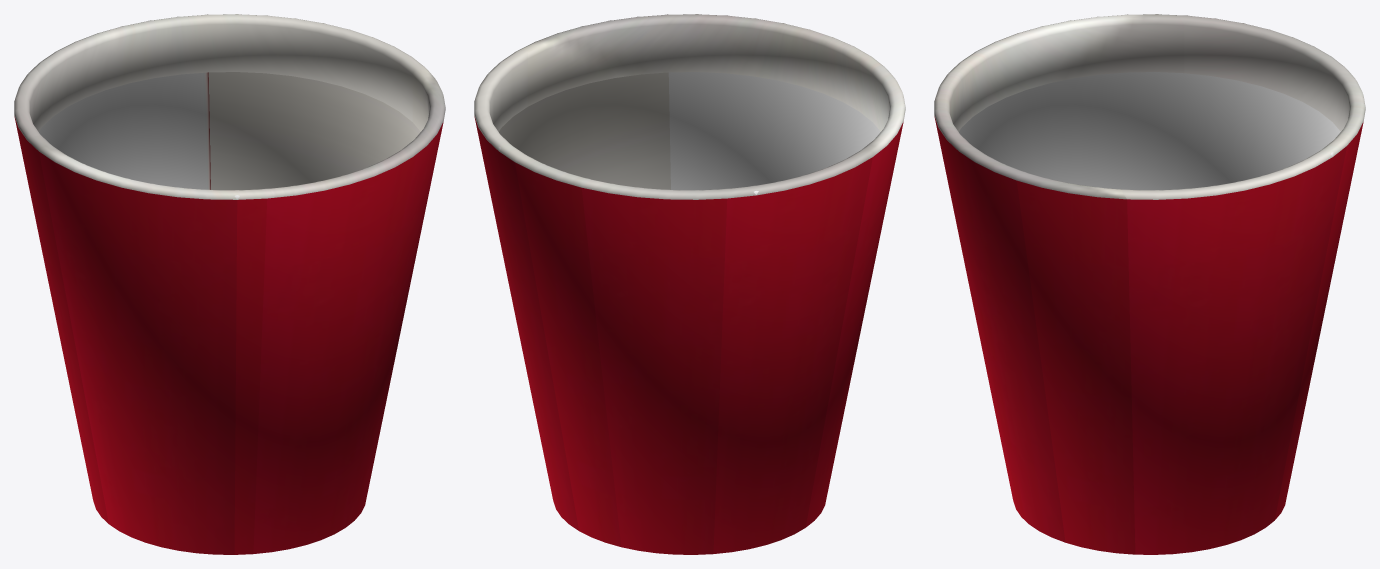
The model's file is cup.glb.
3 renders of one model, left to right at view 1: azimuth 30°, elevation 25°; view 2: azimuth 150°, elevation 25°; view 3: azimuth 270°, elevation 25°, orthographic.
Visible parts, largest first — view 1: Cylinder; view 2: Cylinder; view 3: Cylinder.
Part boxes in pixels (x1,y1,x2,y2): Cylinder: (14,14,445,554); Cylinder: (474,14,905,554); Cylinder: (934,14,1365,554).
Size of the model in its own units: 1.99 by 2 by 1.99.
1 material, 1 textured.
